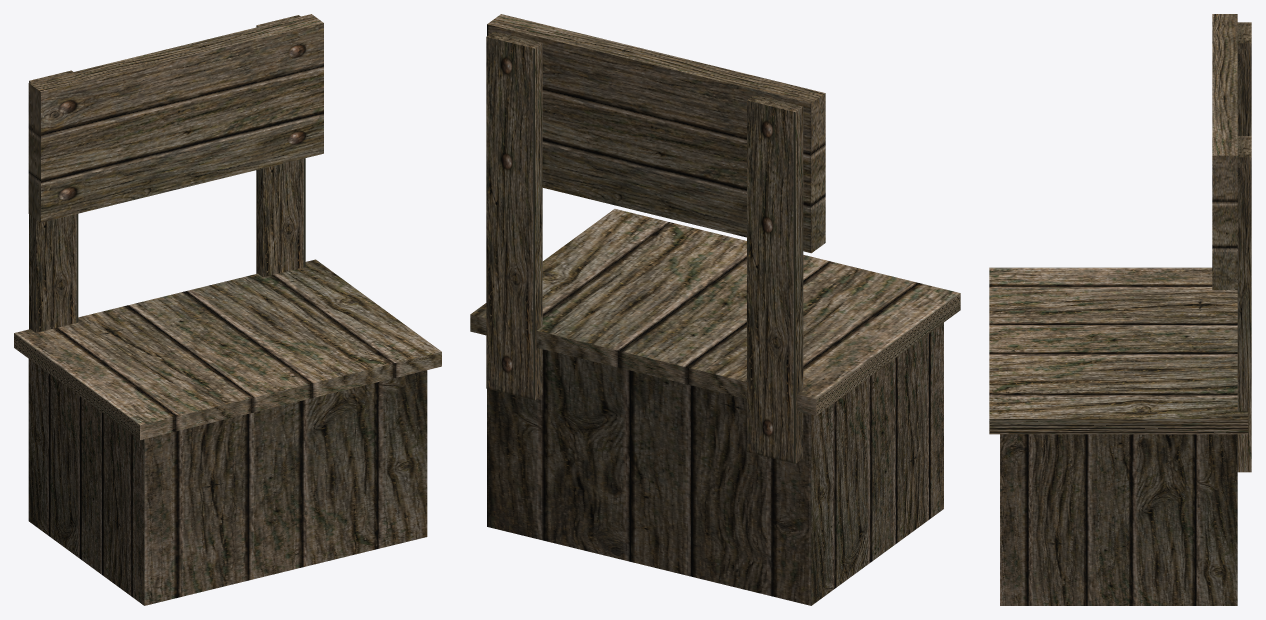
Rendered from mm9_deco_stool03.glb.
3 views of the same model, side by side, from view 1: azimuth 30°, elevation 25°; view 2: azimuth 150°, elevation 25°; view 3: azimuth 270°, elevation 25° (orthographic). The views are drawn at different scales.
Parts seen in each view (by area): view 1: Stool03; view 2: Stool03; view 3: Stool03.
Part boxes in pixels (left/top/right/bottom): Stool03: left=14, top=14, right=441, bottom=605; Stool03: left=470, top=14, right=960, bottom=605; Stool03: left=989, top=14, right=1251, bottom=605.
Bounding box in the file's own units: 1.05 × 1.45 × 0.7657.
2 materials, 2 textured.
